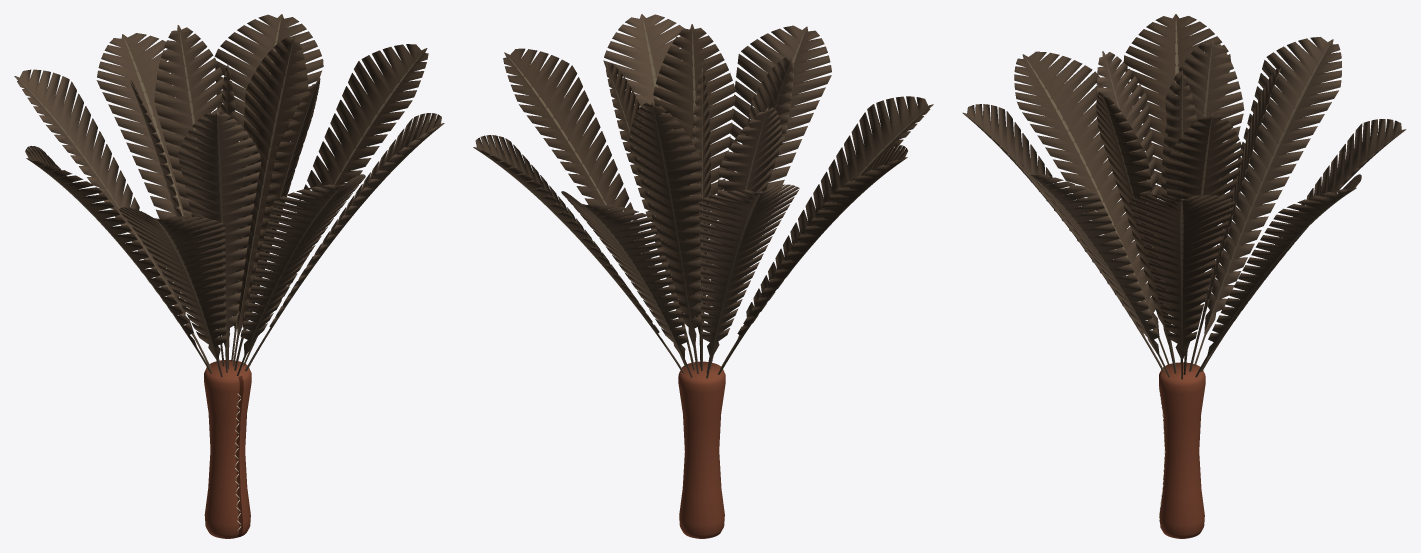
3 views of the same model, side by side, from view 1: azimuth 30°, elevation 25°; view 2: azimuth 150°, elevation 25°; view 3: azimuth 270°, elevation 25° (orthographic).
Visible parts, largest first — view 1: Feather_11_closed_vane_and_quill, Feather_00_closed_vane_and_quill, Feather_05_closed_vane_and_quill, Feather_02_closed_vane_and_quill, Feather_08_closed_vane_and_quill, Feather_06_closed_vane_and_quill, Leather handle complete capped ends, Feather_03_closed_vane_and_quill, Feather_09_closed_vane_and_quill, Feather_01_closed_vane_and_quill, Feather_04_closed_vane_and_quill, Feather_07_closed_vane_and_quill (+3 smaller); view 2: Feather_09_closed_vane_and_quill, Feather_00_closed_vane_and_quill, Feather_03_closed_vane_and_quill, Feather_06_closed_vane_and_quill, Leather handle complete capped ends, Feather_12_closed_vane_and_quill, Feather_02_closed_vane_and_quill, Feather_05_closed_vane_and_quill, Feather_07_closed_vane_and_quill, Feather_10_closed_vane_and_quill, Feather_01_closed_vane_and_quill, Feather_04_closed_vane_and_quill (+3 smaller); view 3: Feather_03_closed_vane_and_quill, Feather_05_closed_vane_and_quill, Feather_00_closed_vane_and_quill, Leather handle complete capped ends, Feather_04_closed_vane_and_quill, Feather_08_closed_vane_and_quill, Feather_07_closed_vane_and_quill, Feather_12_closed_vane_and_quill, Feather_01_closed_vane_and_quill, Feather_10_closed_vane_and_quill, Feather_11_closed_vane_and_quill, Feather_06_closed_vane_and_quill (+3 smaller).
Boxes of the visible parts, bbox=[...] form: Feather_11_closed_vane_and_quill: bbox=[178, 111, 261, 372]; Feather_00_closed_vane_and_quill: bbox=[243, 44, 428, 365]; Feather_05_closed_vane_and_quill: bbox=[119, 207, 226, 377]; Feather_02_closed_vane_and_quill: bbox=[96, 33, 219, 361]; Feather_08_closed_vane_and_quill: bbox=[232, 36, 308, 366]; Feather_06_closed_vane_and_quill: bbox=[236, 174, 365, 375]; Leather handle complete capped ends: bbox=[204, 360, 251, 538]; Feather_03_closed_vane_and_quill: bbox=[14, 69, 210, 367]; Feather_09_closed_vane_and_quill: bbox=[154, 25, 224, 366]; Feather_01_closed_vane_and_quill: bbox=[214, 14, 323, 361]; Feather_04_closed_vane_and_quill: bbox=[25, 146, 212, 373]; Feather_07_closed_vane_and_quill: bbox=[245, 113, 444, 371]; Feather_09_closed_vane_and_quill: bbox=[629, 102, 701, 373]; Feather_00_closed_vane_and_quill: bbox=[503, 48, 686, 366]; Feather_03_closed_vane_and_quill: bbox=[698, 184, 799, 378]; Feather_06_closed_vane_and_quill: bbox=[711, 25, 831, 363]; Leather handle complete capped ends: bbox=[678, 361, 725, 538]; Feather_12_closed_vane_and_quill: bbox=[653, 24, 735, 367]; Feather_02_closed_vane_and_quill: bbox=[561, 191, 692, 377]; Feather_05_closed_vane_and_quill: bbox=[720, 96, 933, 368]; Feather_07_closed_vane_and_quill: bbox=[603, 14, 697, 363]; Feather_10_closed_vane_and_quill: bbox=[706, 107, 781, 372]; Feather_01_closed_vane_and_quill: bbox=[473, 135, 684, 373]; Feather_04_closed_vane_and_quill: bbox=[718, 145, 907, 374]; Feather_03_closed_vane_and_quill: bbox=[1194, 37, 1341, 366]; Feather_05_closed_vane_and_quill: bbox=[1014, 51, 1169, 365]; Feather_00_closed_vane_and_quill: bbox=[1129, 195, 1234, 379]; Leather handle complete capped ends: bbox=[1159, 362, 1205, 538]; Feather_04_closed_vane_and_quill: bbox=[1123, 14, 1230, 363]; Feather_08_closed_vane_and_quill: bbox=[1164, 113, 1243, 374]; Feather_07_closed_vane_and_quill: bbox=[1020, 162, 1169, 377]; Feather_12_closed_vane_and_quill: bbox=[1096, 91, 1176, 373]; Feather_01_closed_vane_and_quill: bbox=[1195, 174, 1361, 377]; Feather_10_closed_vane_and_quill: bbox=[1165, 39, 1244, 367]; Feather_11_closed_vane_and_quill: bbox=[1096, 51, 1176, 369]; Feather_06_closed_vane_and_quill: bbox=[962, 104, 1164, 371].
Bounding box in the file's own units: 0.3328 × 0.3711 × 0.3211.
